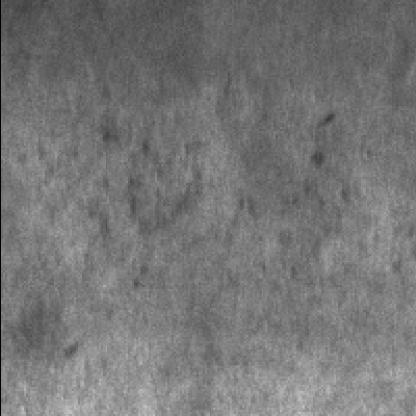rolled-in_scale: (77, 129, 204, 287), (229, 147, 349, 276)
